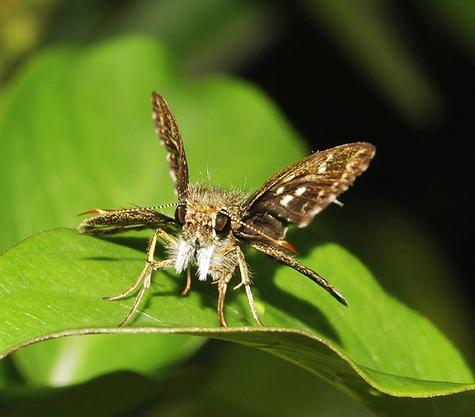Hesperiidae: (78, 86, 377, 335)
